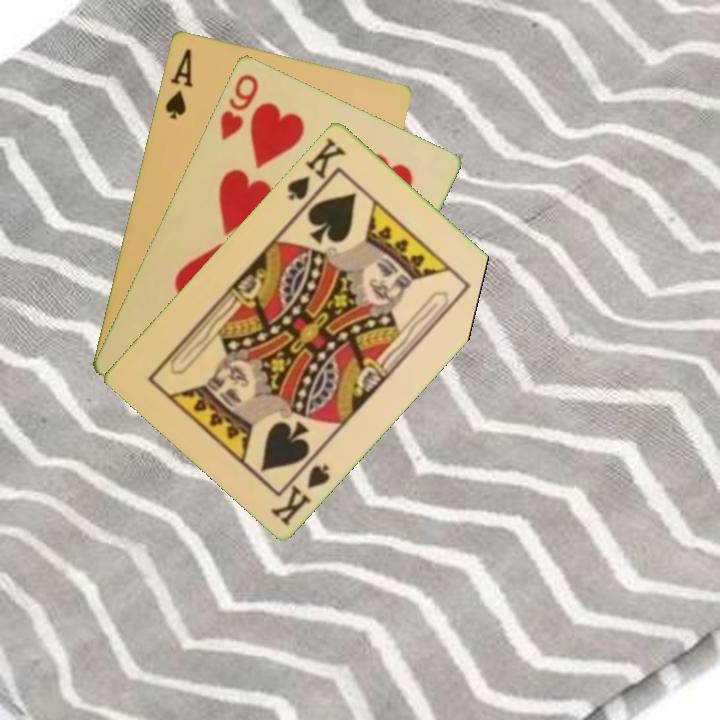9h: (216, 70, 261, 143)
As: (161, 44, 196, 122)
Ks: (283, 132, 349, 211), (267, 449, 333, 528)
